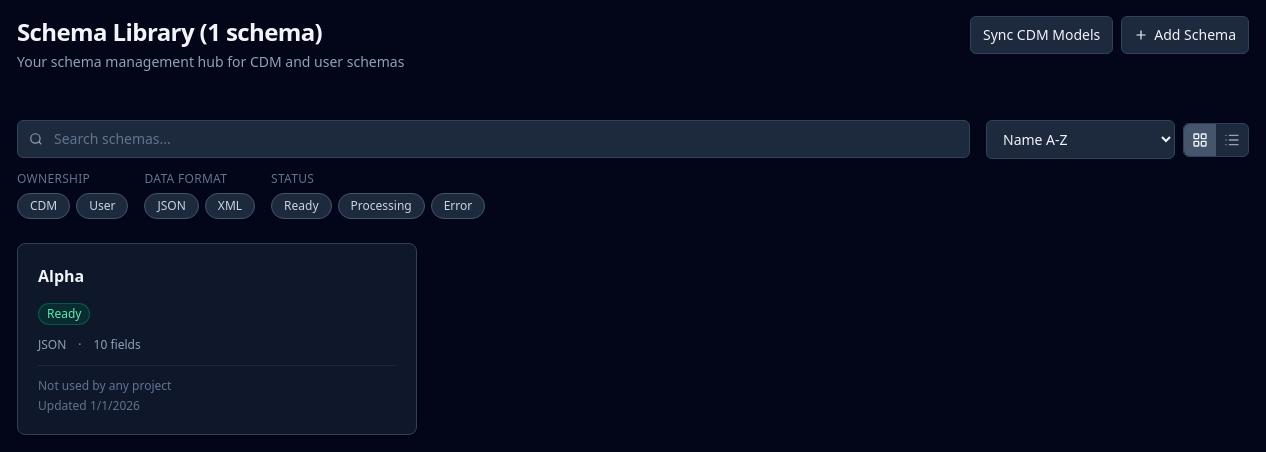
Test: SchemaLibraryPage › clear filters from no-results restores the card grid
Expected: the element with test id "schema-library-card" is shown, [17,243,417,435]
Type "zzznomatch" into the search field at (494, 139), box [17,120,970,158]
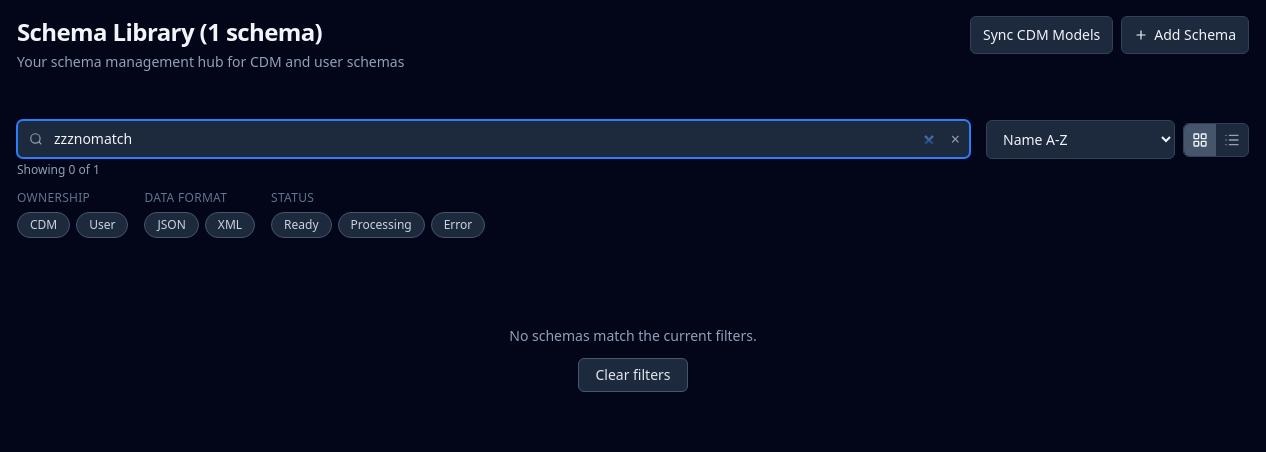
Expected: the element with test id "no-results" is shown, [509,326,757,392]
Click the button with test id "no-results-clear" at (633, 375), box [578,358,688,392]
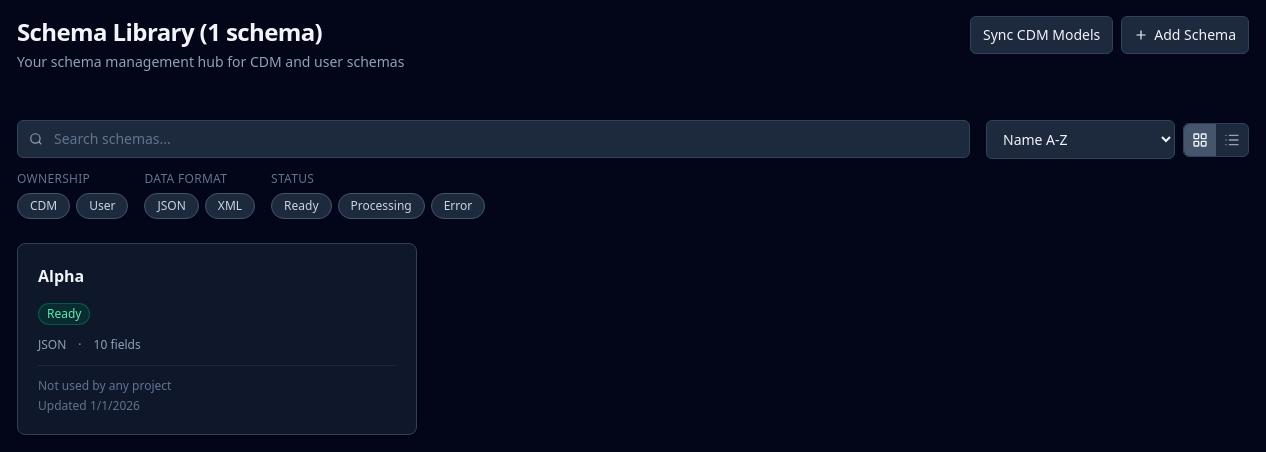
Expected: the element with test id "schema-library-card" is shown, [17,243,417,435]
